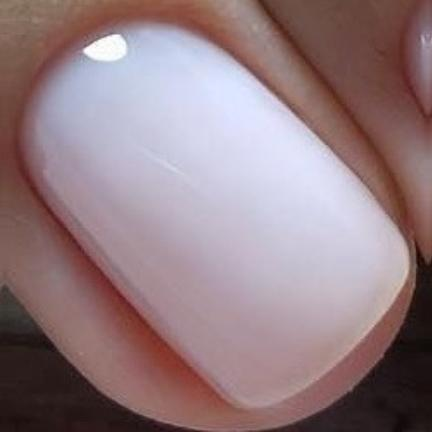Nail: (17, 22, 408, 410)
